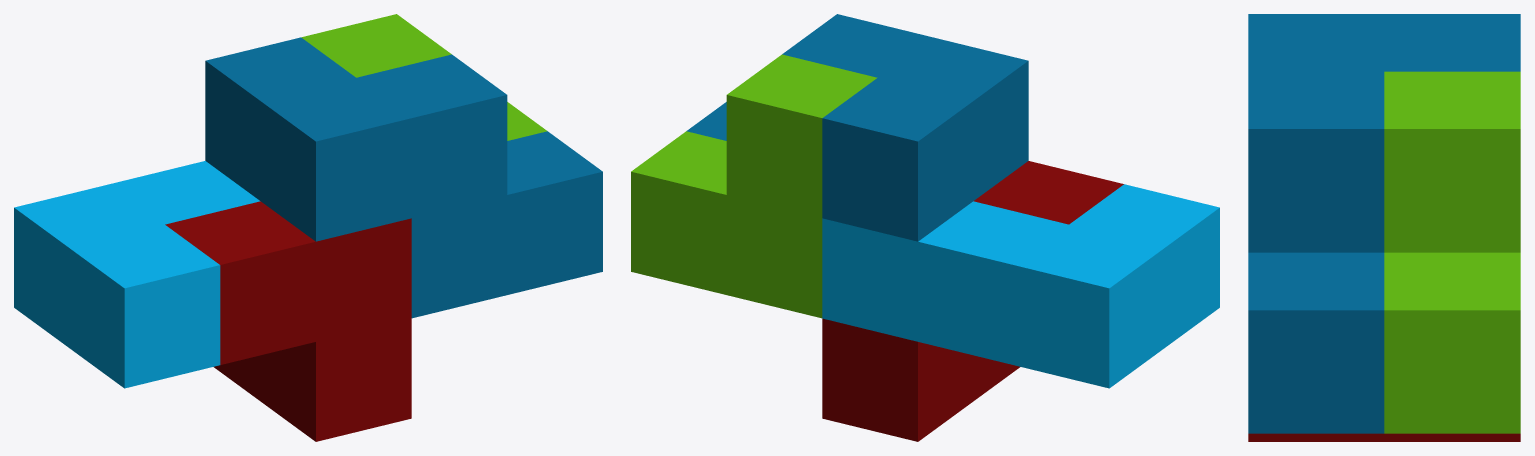
3 renders of one model, left to right at view 1: azimuth 30°, elevation 25°; view 2: azimuth 150°, elevation 25°; view 3: azimuth 270°, elevation 25°, orthographic. The views are drawn at different scales.
Parts seen in each view (by area): view 1: mergedBlocks(Clone); view 2: mergedBlocks(Clone); view 3: mergedBlocks(Clone).
Boxes of the visible parts, left/top/right/bottom form: mergedBlocks(Clone): left=14, top=14, right=602, bottom=441; mergedBlocks(Clone): left=631, top=14, right=1219, bottom=441; mergedBlocks(Clone): left=1248, top=14, right=1520, bottom=441.
Bounding box in the file's own units: 5 × 3 × 2.
Materials: 4 (4 with a texture image).
